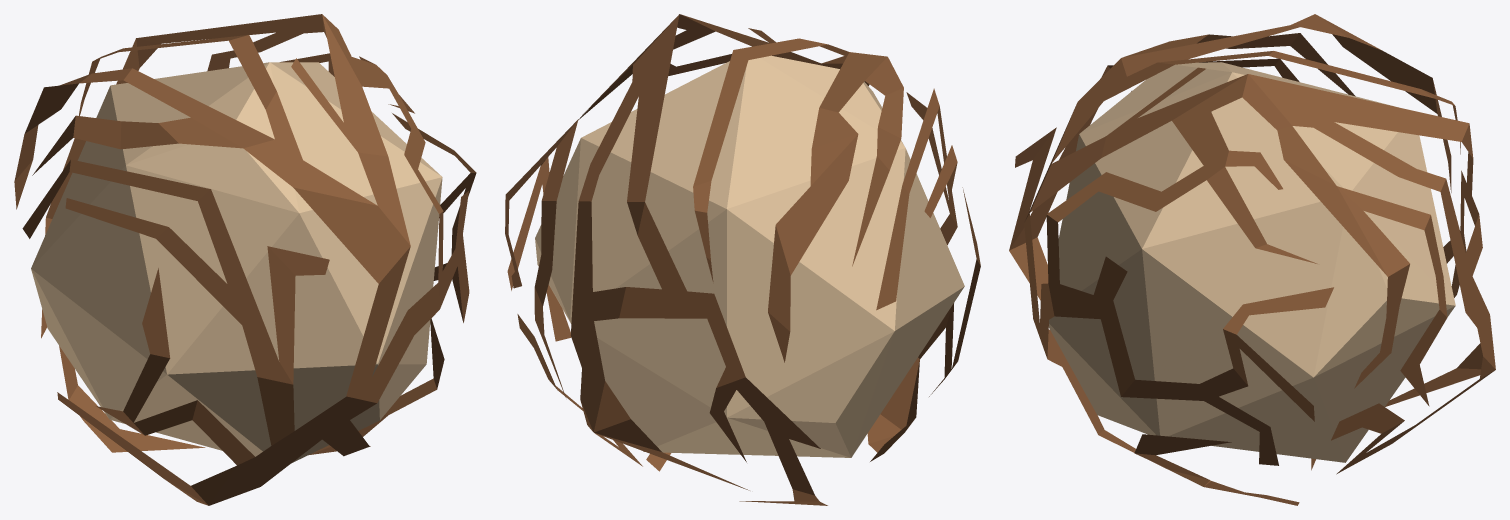
The model's file is western_tumbleweed.fbx.
3 renders of one model, left to right at view 1: azimuth 30°, elevation 25°; view 2: azimuth 150°, elevation 25°; view 3: azimuth 270°, elevation 25°, orthographic.
Visible parts, largest first — view 1: western_tumbleweed; view 2: western_tumbleweed; view 3: western_tumbleweed.
Part boxes in pixels (x1,y1,x2,y2): western_tumbleweed: [14, 14, 476, 505]; western_tumbleweed: [505, 14, 980, 505]; western_tumbleweed: [1009, 14, 1495, 505].
Size of the model in its own units: 189 by 199 by 200.
